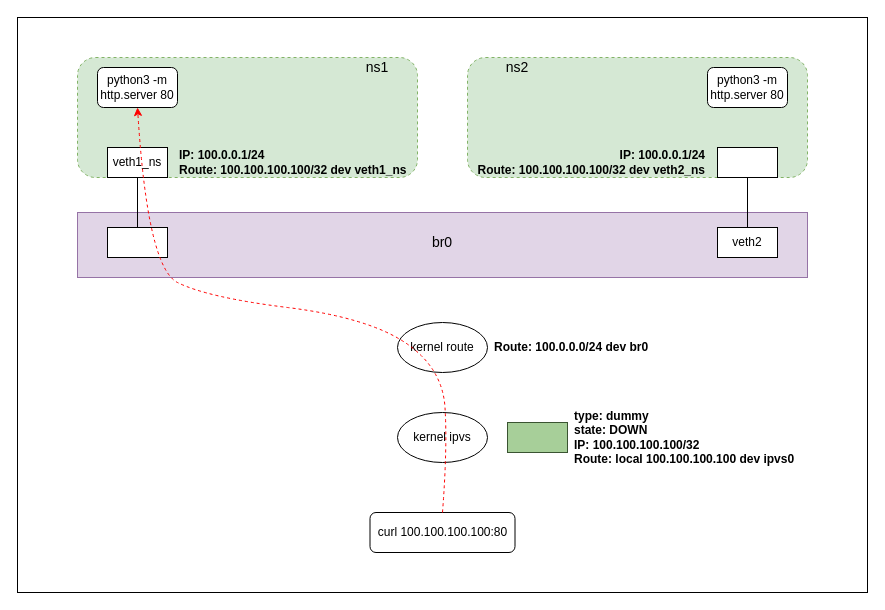
Some shapes in this 885 by 610 pixel diagram are drawn without their labels. Each missing label, with the box of its shape:
ipvs0: (506, 422, 568, 452)
veth1: (106, 226, 168, 258)
veth2_ns: (716, 146, 778, 178)
